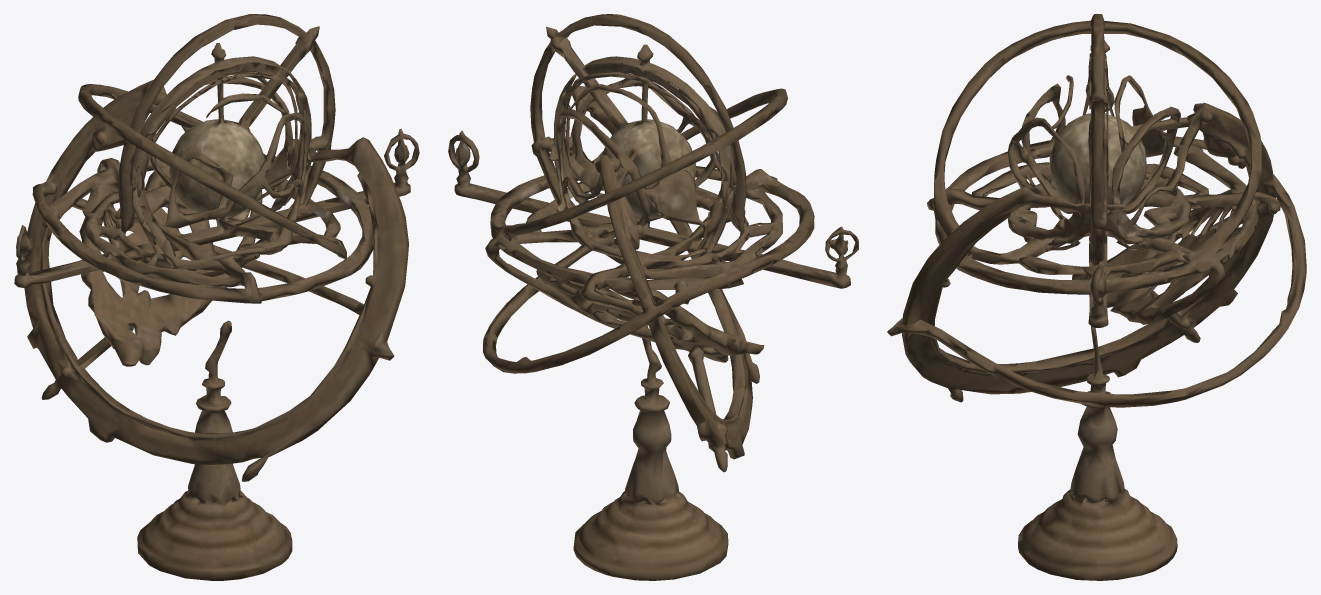
Rendered from globe.glb.
3 views of the same model, side by side, from view 1: azimuth 30°, elevation 25°; view 2: azimuth 150°, elevation 25°; view 3: azimuth 270°, elevation 25° (orthographic). The views are drawn at different scales.
Bounding box in the file's own units: 1.54 × 1.9 × 1.35.
Materials: 1 (1 with a texture image).
